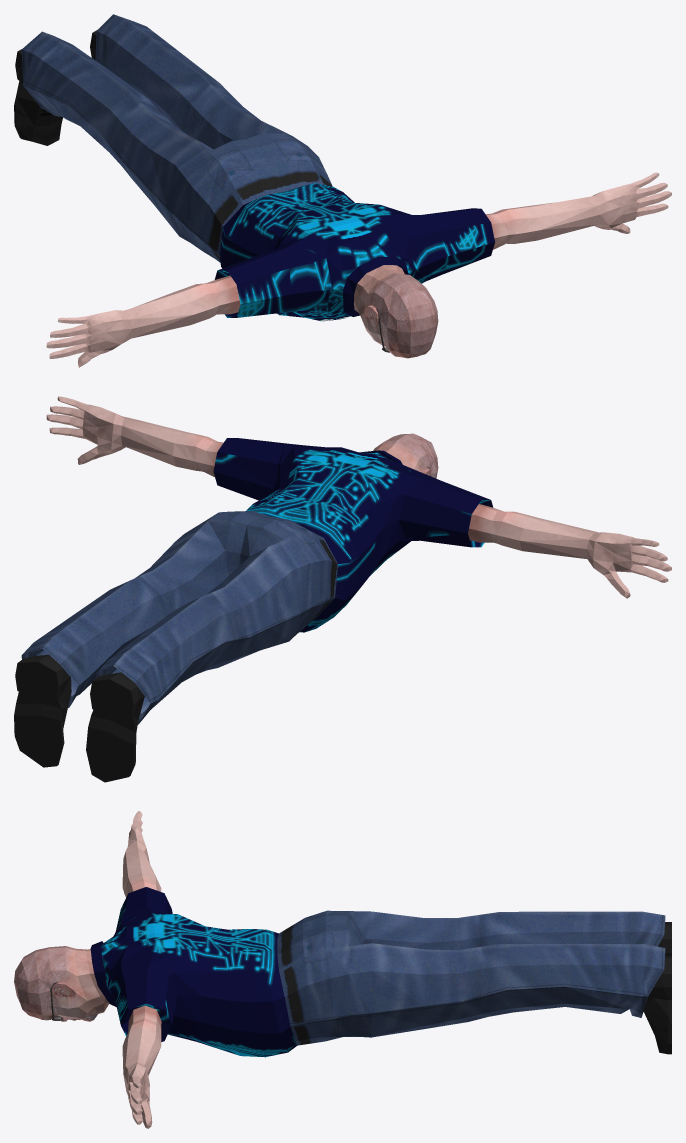
Rendered from tomdrinman2tronguy_wtf.obj.
3 renders of one model, top to bottom at view 1: azimuth 30°, elevation 25°; view 2: azimuth 150°, elevation 25°; view 3: azimuth 270°, elevation 25°, orthographic. The views are drawn at different scales.
Visible parts, largest first — view 1: group1; view 2: group1; view 3: group1.
Part boxes in pixels (x1,y1,x2,y2): group1: (14,14,671,367); group1: (14,396,671,782); group1: (14,811,671,1128).
Bounding box in the file's own units: 660 × 136 × 641.
